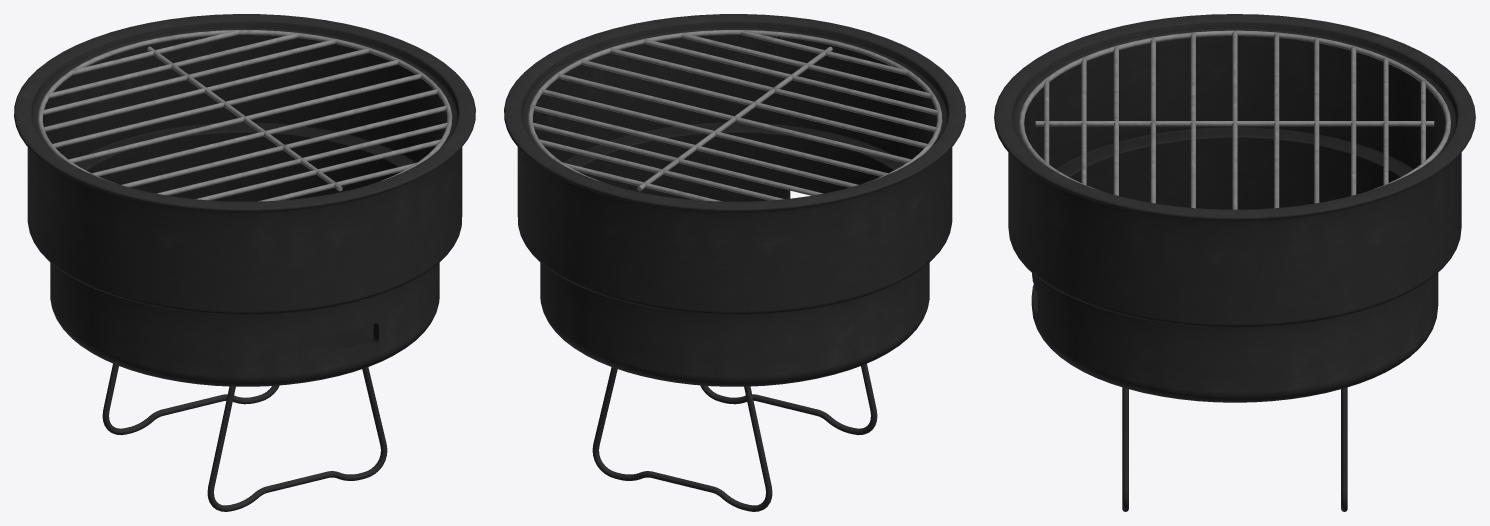
Rendered from Barbecue.fbx.
3 renders of one model, left to right at view 1: azimuth 30°, elevation 25°; view 2: azimuth 150°, elevation 25°; view 3: azimuth 270°, elevation 25°, orthographic. The views are drawn at different scales.
Parts seen in each view (by area): view 1: Cylinder, Cylinder.004, Plane; view 2: Cylinder, Cylinder.004, Plane; view 3: Cylinder, Cylinder.004, Plane.
Part boxes in pixels (<box>): Cylinder: <box>14,14,475,386</box>; Cylinder.004: <box>37,30,452,201</box>; Plane: <box>102,363,387,511</box>; Cylinder: <box>504,14,965,386</box>; Cylinder.004: <box>527,30,942,201</box>; Plane: <box>592,363,877,511</box>; Cylinder: <box>994,14,1475,402</box>; Cylinder.004: <box>1018,30,1451,209</box>; Plane: <box>1122,387,1347,511</box>.
Size of the model in its own units: 42.76 by 35.28 by 42.76.
